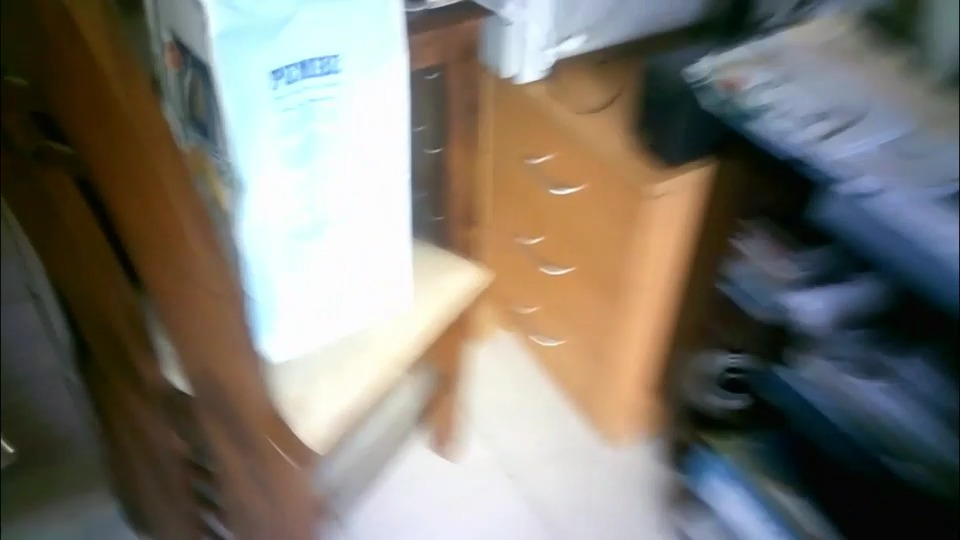wheat_flour_blue_label: (157, 2, 419, 365)
